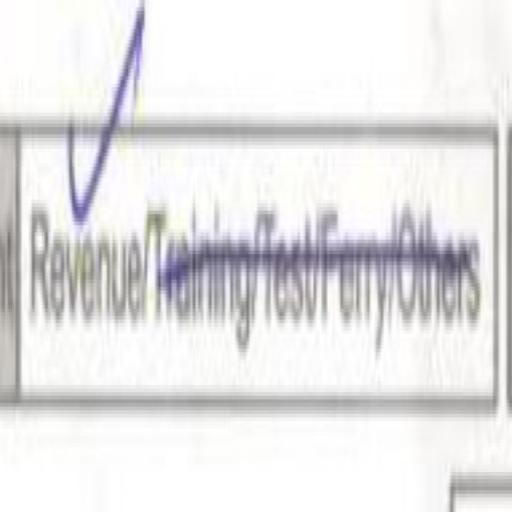check: (24, 38, 143, 460)
